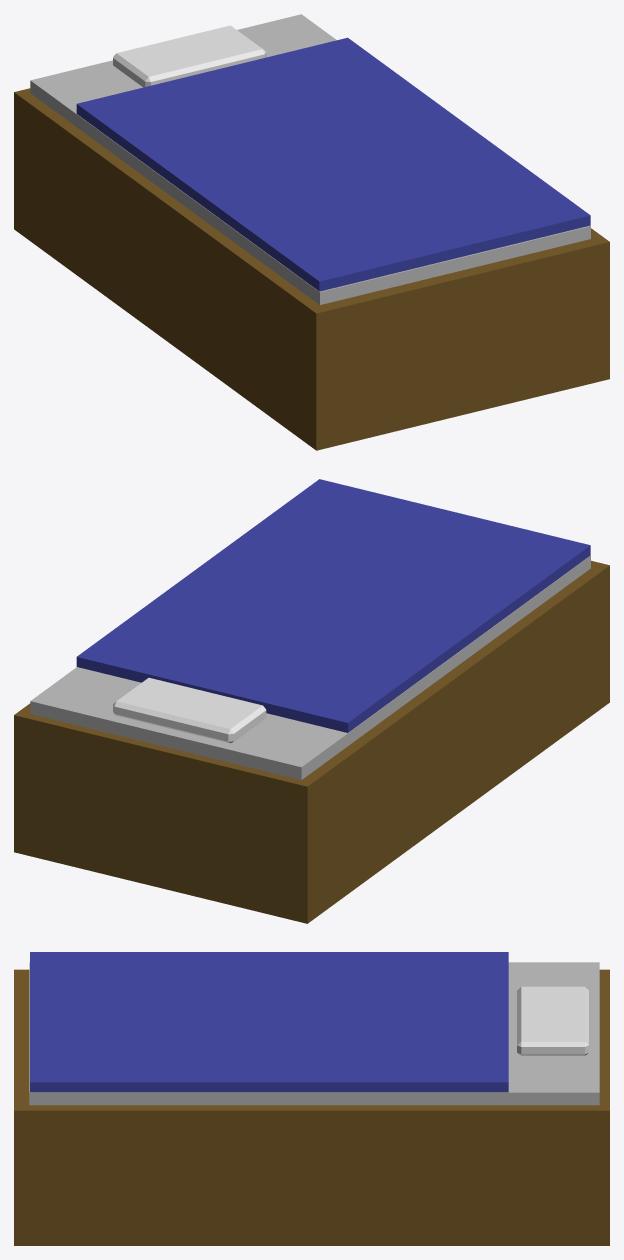
Rendered from Bed.fbx.
3 renders of one model, top to bottom at view 1: azimuth 30°, elevation 25°; view 2: azimuth 150°, elevation 25°; view 3: azimuth 270°, elevation 25°, orthographic.
Parts seen in each view (by area): view 1: pCube2, pCube4, pCube1, pCube3; view 2: pCube2, pCube4, pCube1, pCube3; view 3: pCube2, pCube4, pCube1, pCube3.
Boxes of the visible parts, box(x1,y1,x2,y2) form: pCube2: box(14, 88, 609, 450); pCube4: box(76, 37, 590, 291); pCube1: box(30, 14, 590, 304); pCube3: box(113, 25, 266, 87); pCube2: box(14, 560, 609, 923); pCube4: box(76, 479, 590, 732); pCube1: box(30, 555, 590, 779); pCube3: box(113, 677, 266, 743); pCube2: box(14, 969, 609, 1245); pCube4: box(30, 952, 508, 1092); pCube1: box(29, 962, 599, 1105); pCube3: box(517, 986, 588, 1055).
Bounding box in the file's own units: 4.65 × 2.48 × 8.3.
